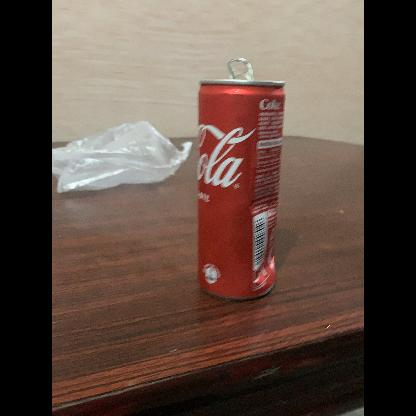Dent_Can: (233, 190, 279, 231), (250, 254, 274, 286)
Lid_Open: (220, 50, 260, 88)
Tin_Can: (192, 52, 284, 310)
